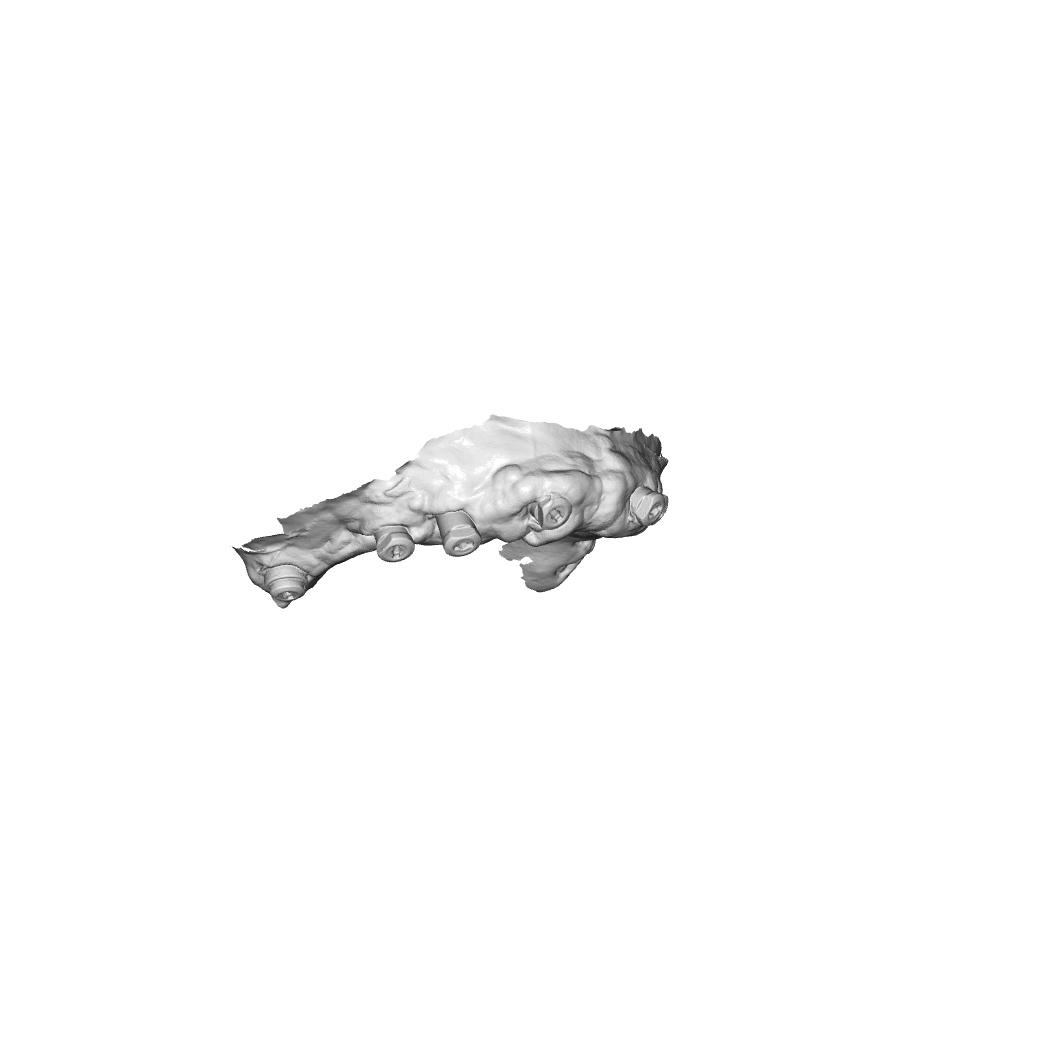implant_minus: (361, 524, 414, 573), (524, 489, 571, 536), (436, 516, 483, 560), (263, 563, 312, 603), (629, 490, 671, 532)
